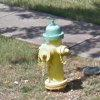Hydrant: (32, 10, 81, 92)
